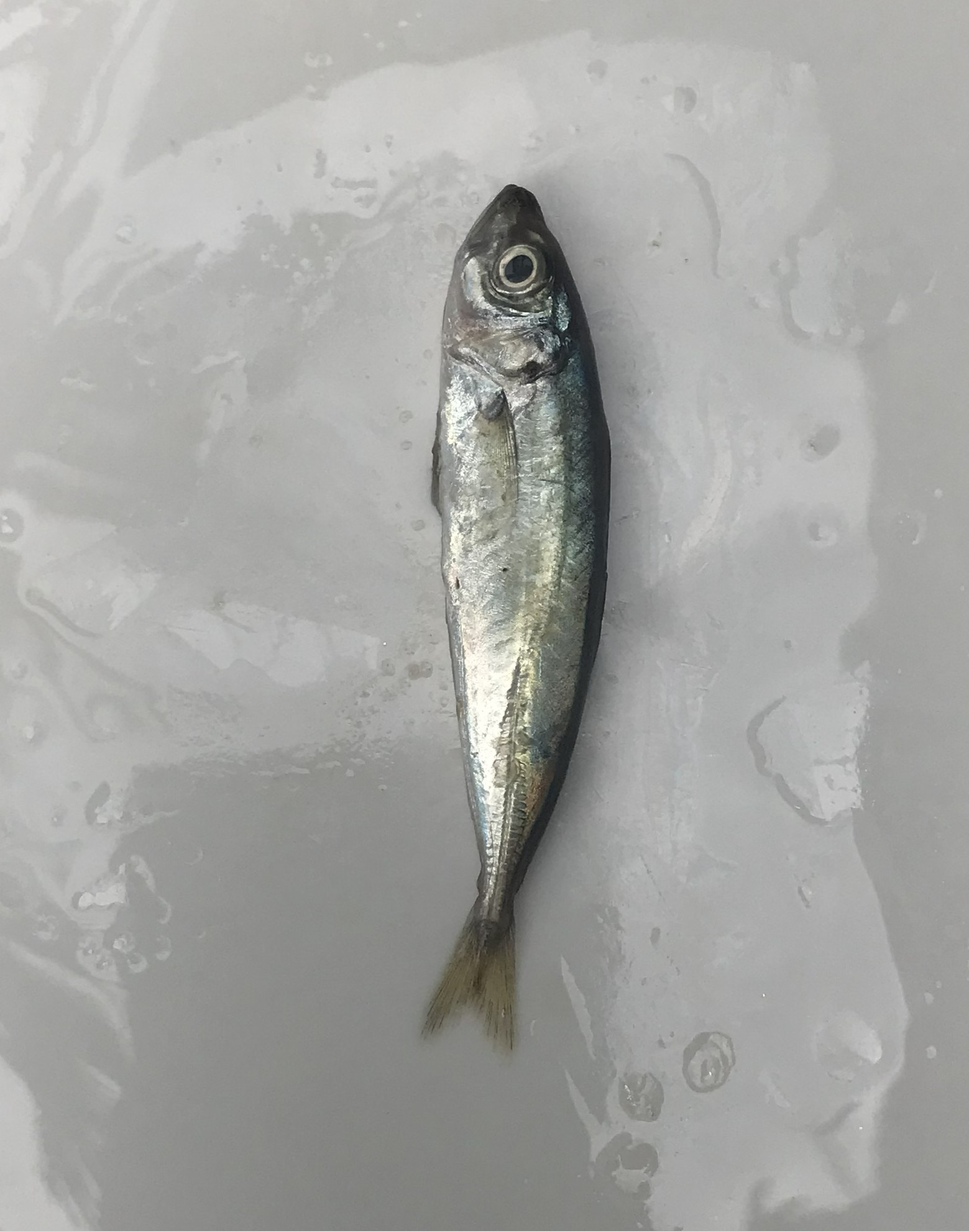burot_not_dried: (60, 184, 669, 1231), (747, 883, 969, 1231), (861, 768, 923, 876), (682, 1031, 736, 1093)
